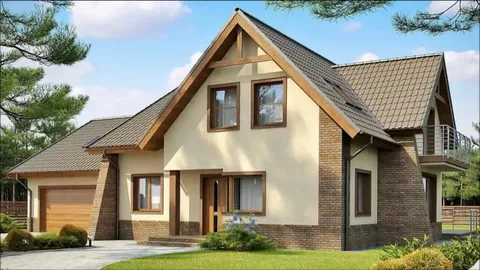private_hause: (73, 35, 444, 238)
